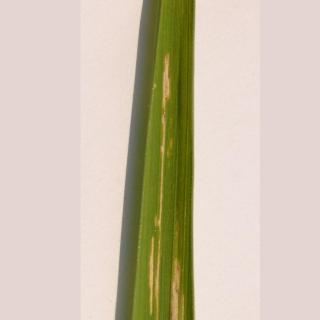Hawar-Daun: (138, 65, 178, 313), (164, 258, 194, 318)
